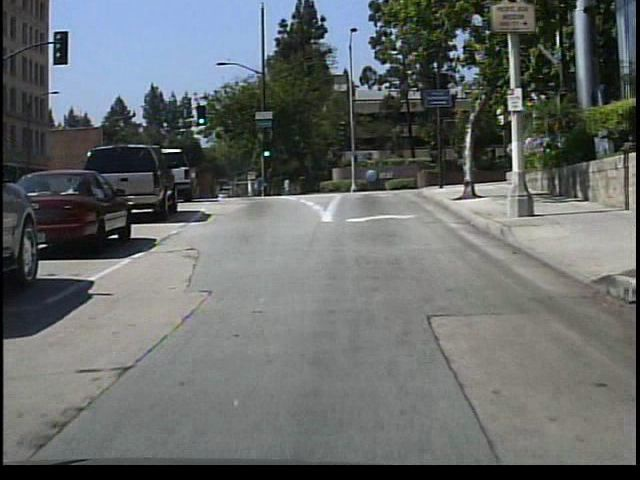person: (251, 168, 269, 200), (280, 173, 294, 198)
